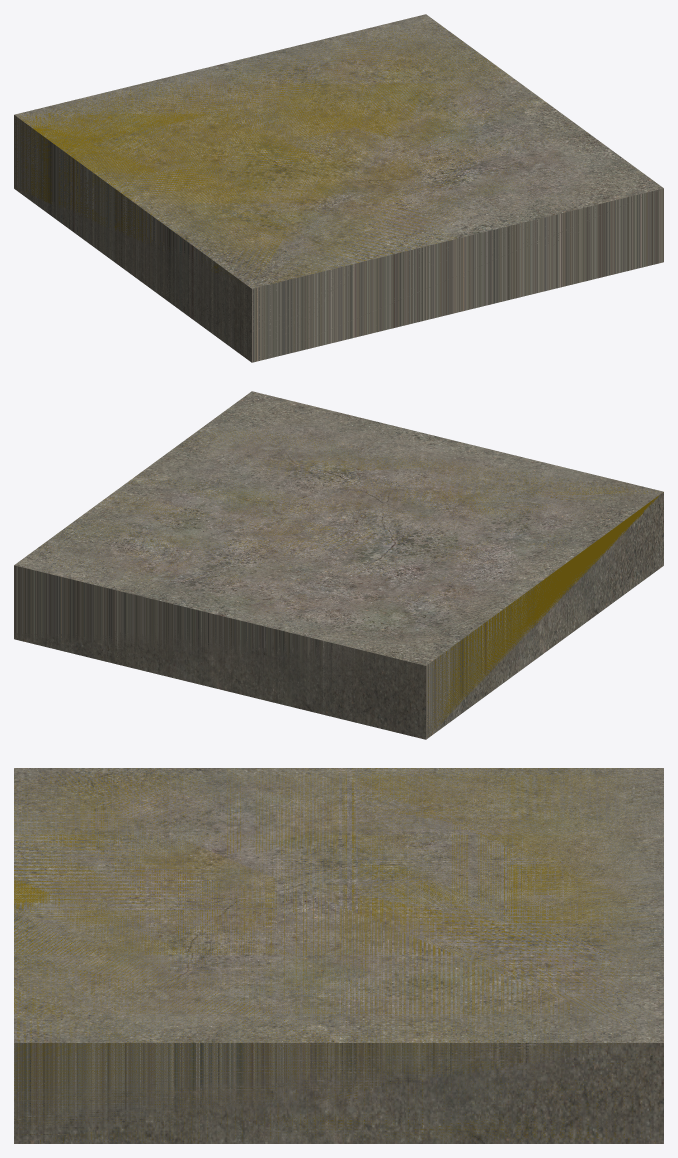
File: floor_tile_01.DAE
3 views of the same model, one above another, from view 1: azimuth 30°, elevation 25°; view 2: azimuth 150°, elevation 25°; view 3: azimuth 270°, elevation 25° (orthographic). The views are drawn at different scales.
Visible parts, largest first — view 1: floor_tile_one, colbox-01, bounds; view 2: floor_tile_one, colbox-01, bounds; view 3: floor_tile_one, colbox-01, bounds.
Boxes of the visible parts, x1,y1,x2,y2 form: floor_tile_one: (14, 14, 663, 361); colbox-01: (14, 14, 663, 362); bounds: (15, 20, 562, 285); floor_tile_one: (14, 391, 663, 739); colbox-01: (14, 395, 662, 738); bounds: (42, 427, 663, 731); floor_tile_one: (14, 768, 663, 1143); colbox-01: (14, 768, 663, 1143); bounds: (14, 768, 660, 1143).
Bounding box in the file's own units: 700 × 700 × 120.
Materials: 2 (1 with a texture image).
